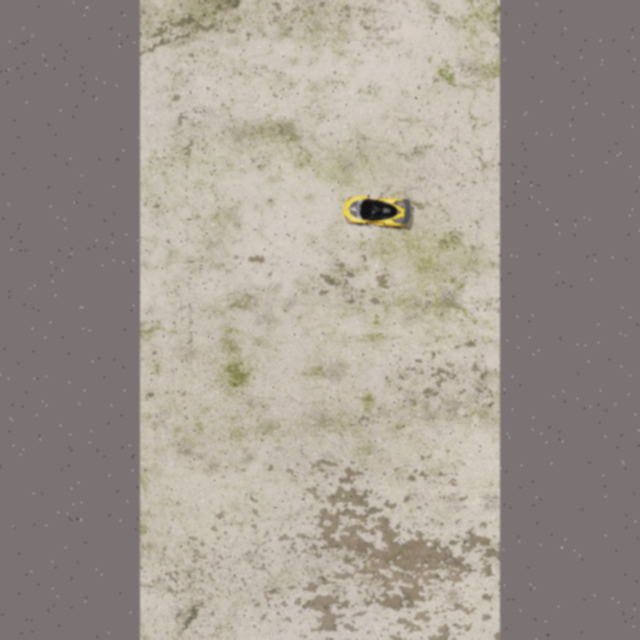car: (341, 191, 411, 230)
